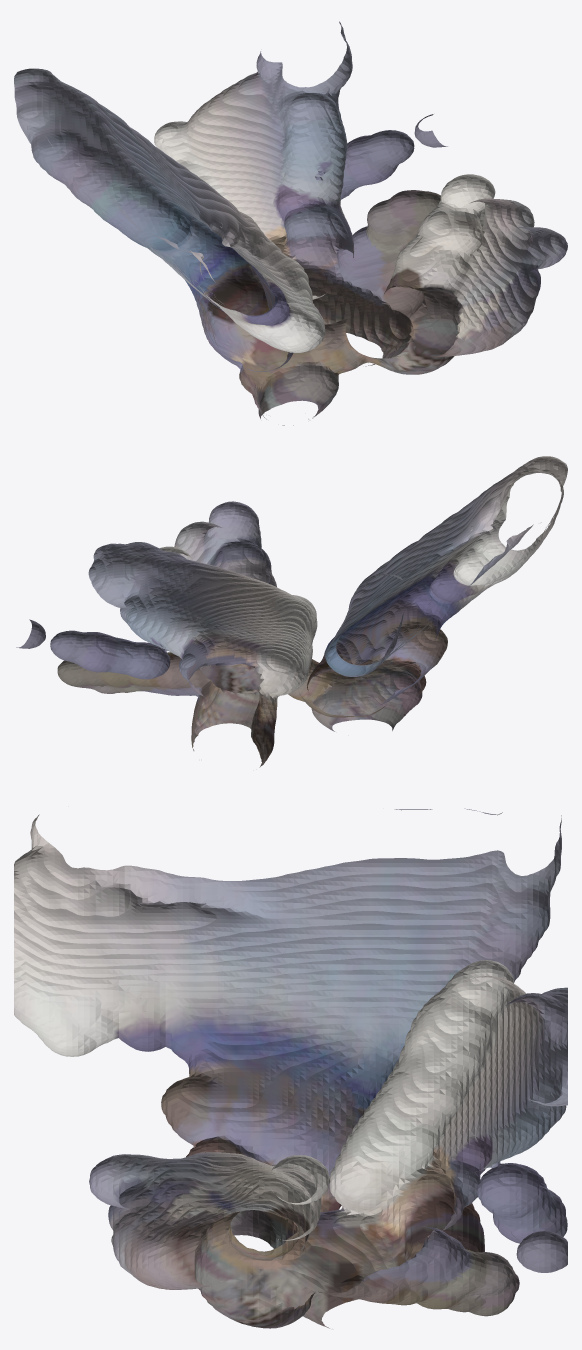
The model's file is current_mesh.glb.
3 views of the same model, one above another, from view 1: azimuth 30°, elevation 25°; view 2: azimuth 150°, elevation 25°; view 3: azimuth 270°, elevation 25° (orthographic). The views are drawn at different scales.
Size of the model in its own units: 88.73 by 58.14 by 81.18.
